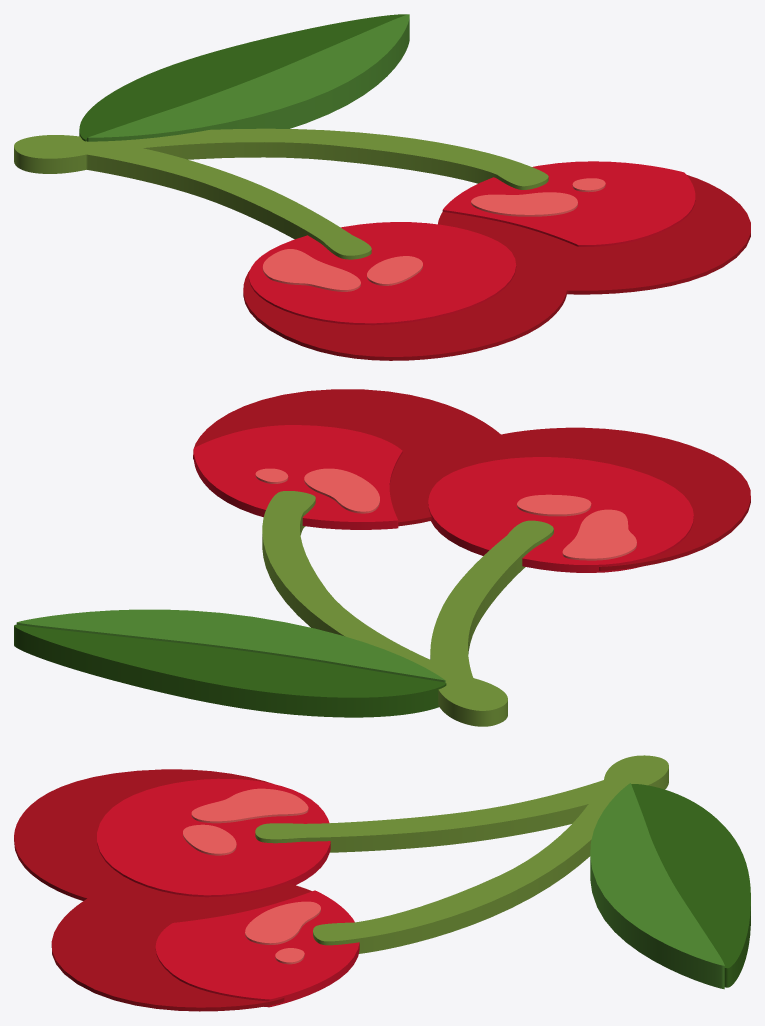
File: emoji_u1f352.glb
3 renders of one model, top to bottom at view 1: azimuth 30°, elevation 25°; view 2: azimuth 150°, elevation 25°; view 3: azimuth 270°, elevation 25°, orthographic. The views are drawn at different scales.
Parts seen in each view (by area): view 1: emoji_u1f352; view 2: emoji_u1f352; view 3: emoji_u1f352.
Part boxes in pixels (<box>): emoji_u1f352: <box>14,14,750,360</box>; emoji_u1f352: <box>14,389,750,726</box>; emoji_u1f352: <box>14,755,750,1011</box>.
Bounding box in the file's own units: 0.0271 × 0.0012 × 0.0343.
